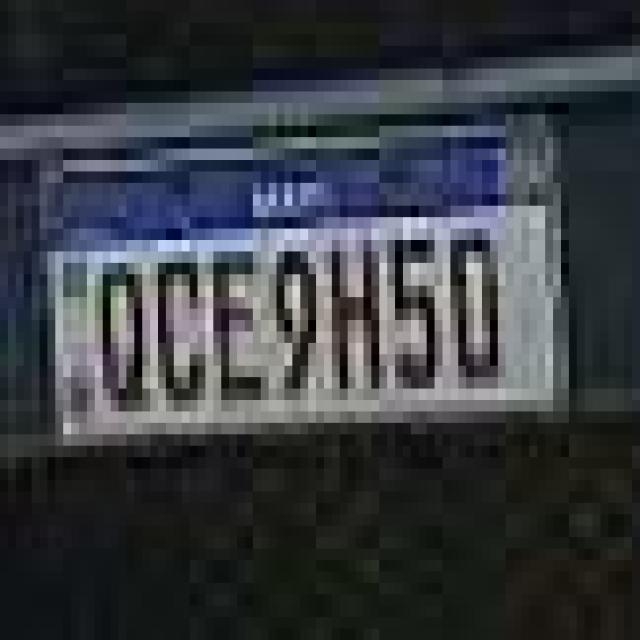0: (446, 223, 508, 394)
5: (387, 230, 445, 394)
9: (268, 237, 325, 404)
C: (152, 247, 210, 409)
E: (212, 242, 271, 406)
H: (324, 234, 388, 398)
Q: (97, 254, 152, 412)
